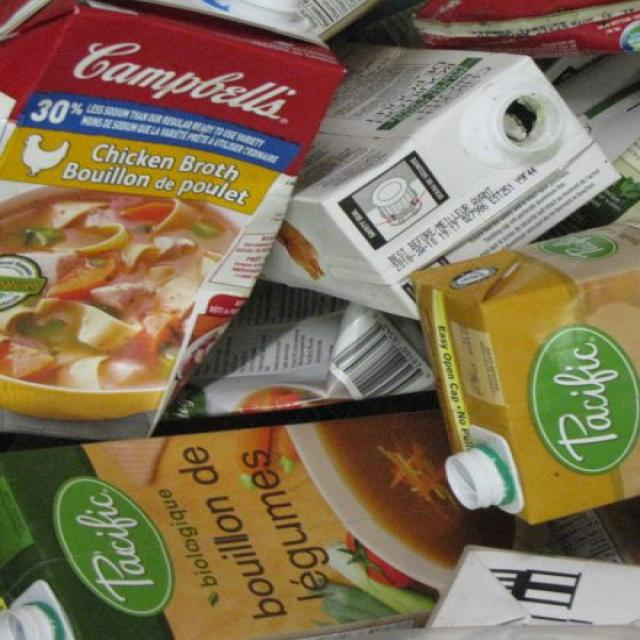cardboard: (0, 408, 640, 640), (296, 0, 640, 406), (0, 0, 317, 436), (407, 205, 640, 530)
